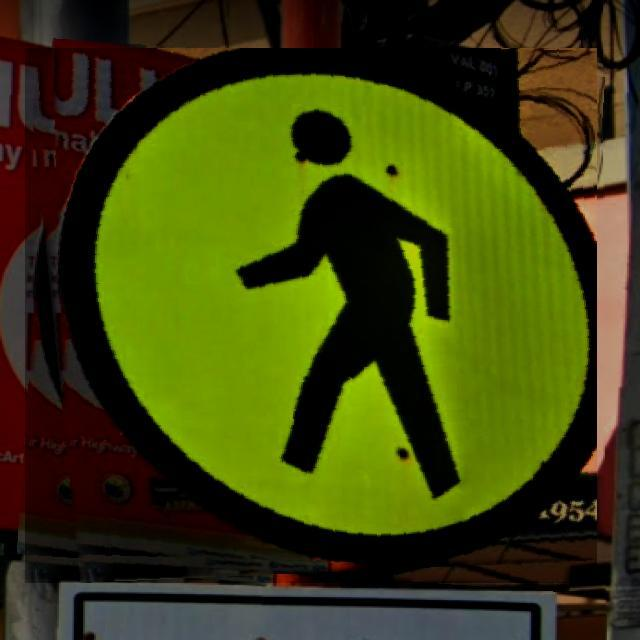pedestrian crossing: (25, 48, 597, 583)
